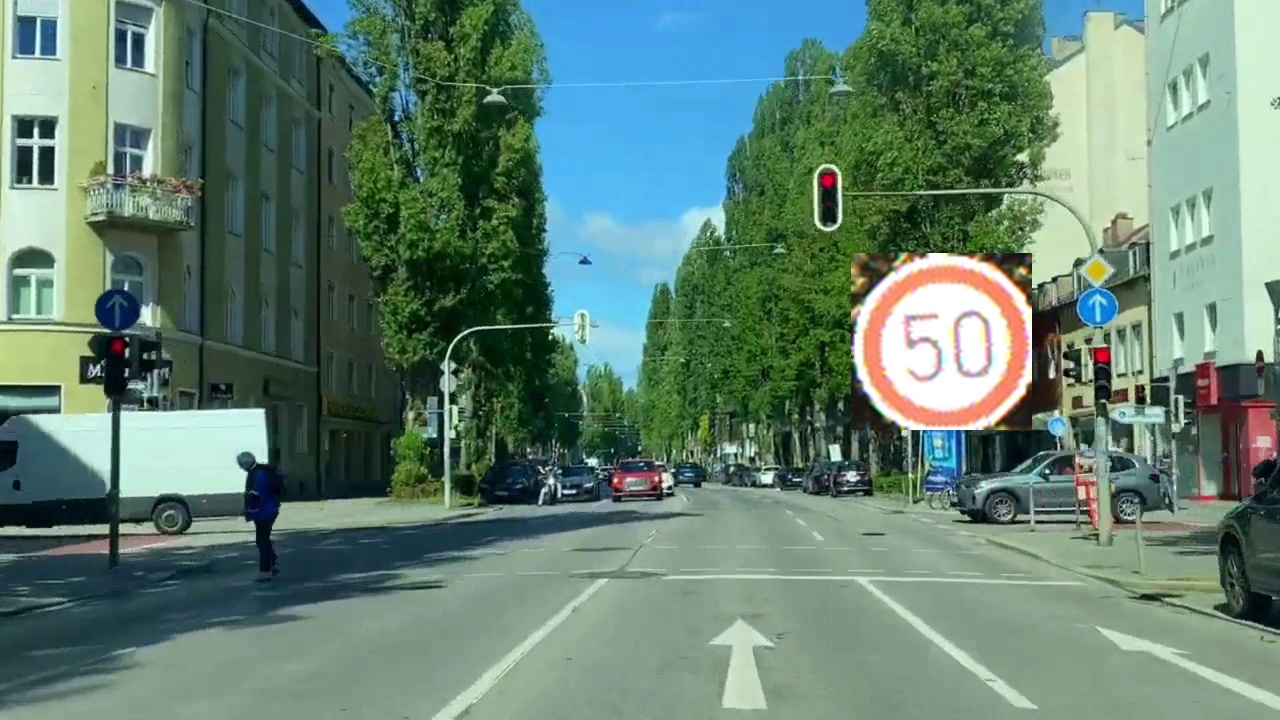Speed 50: (851, 253, 1032, 430)
